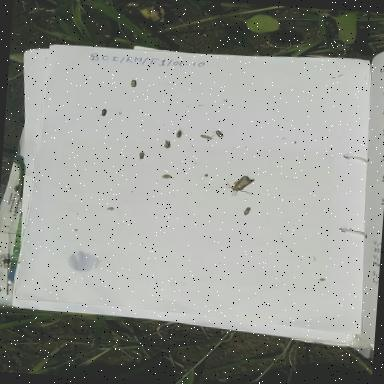pbw: (222, 172, 256, 198), (234, 200, 268, 222), (122, 74, 150, 90), (207, 122, 231, 140), (157, 136, 180, 154), (129, 148, 155, 162), (198, 133, 216, 143), (97, 106, 110, 118), (174, 127, 186, 140)
